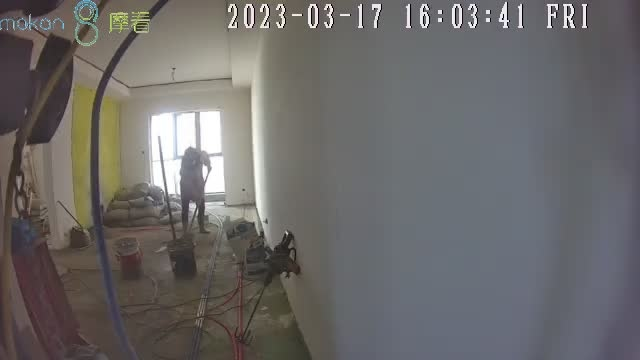people: (179, 148, 211, 235)
window: (152, 112, 224, 196)
